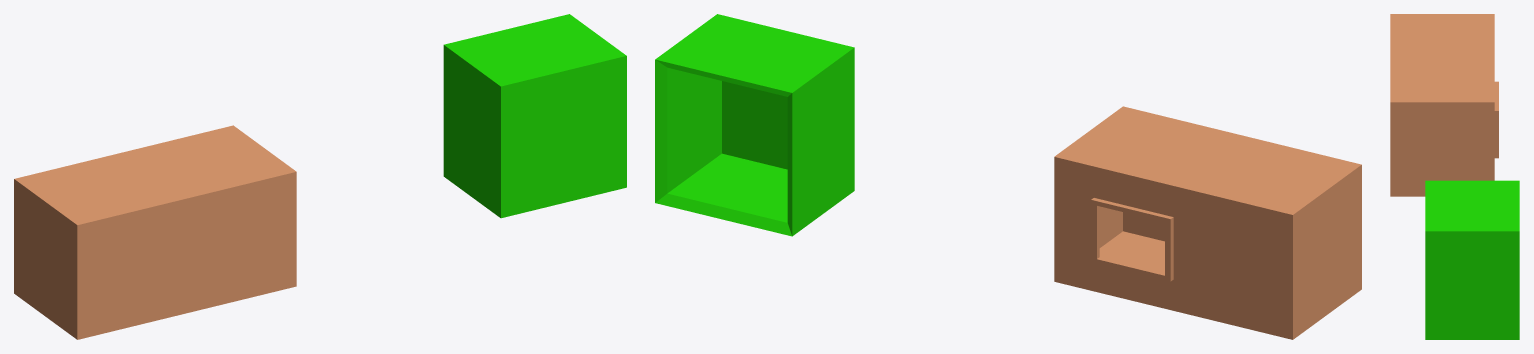
3 views of the same model, side by side, from view 1: azimuth 30°, elevation 25°; view 2: azimuth 150°, elevation 25°; view 3: azimuth 270°, elevation 25° (orthographic). The views are drawn at different scales.
Visible parts, largest first — view 1: Cube.003, Cube.004; view 2: Cube.003, Cube.004; view 3: Cube.003, Cube.004.
Boxes of the visible parts, x1,y1,x2,y2 form: Cube.003: (14,125,296,339); Cube.004: (443,14,626,218); Cube.003: (1054,106,1361,339); Cube.004: (655,14,854,236); Cube.003: (1390,14,1498,196); Cube.004: (1425,180,1519,339).
Size of what is drawn, in the model's own units: 18.12 by 4 by 4.31.
